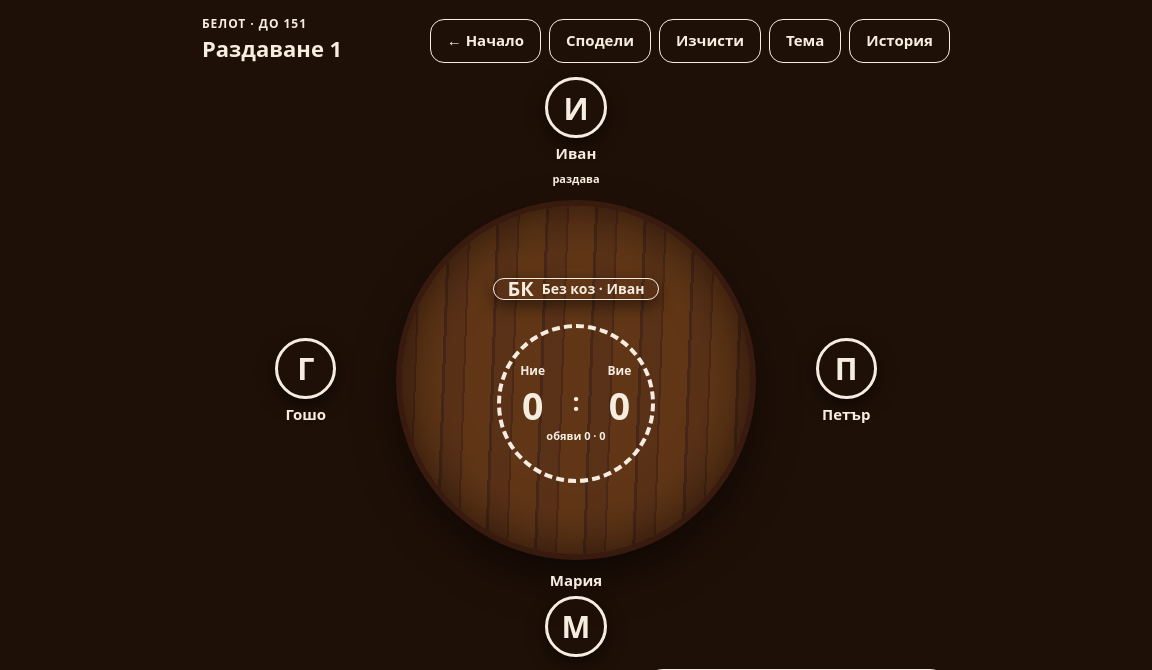
Test case: Declarations popover › opens with a blocking message when the contract is no-trumps
Click the button named "Иван".
click(576, 108)  # box [545,77,607,138]
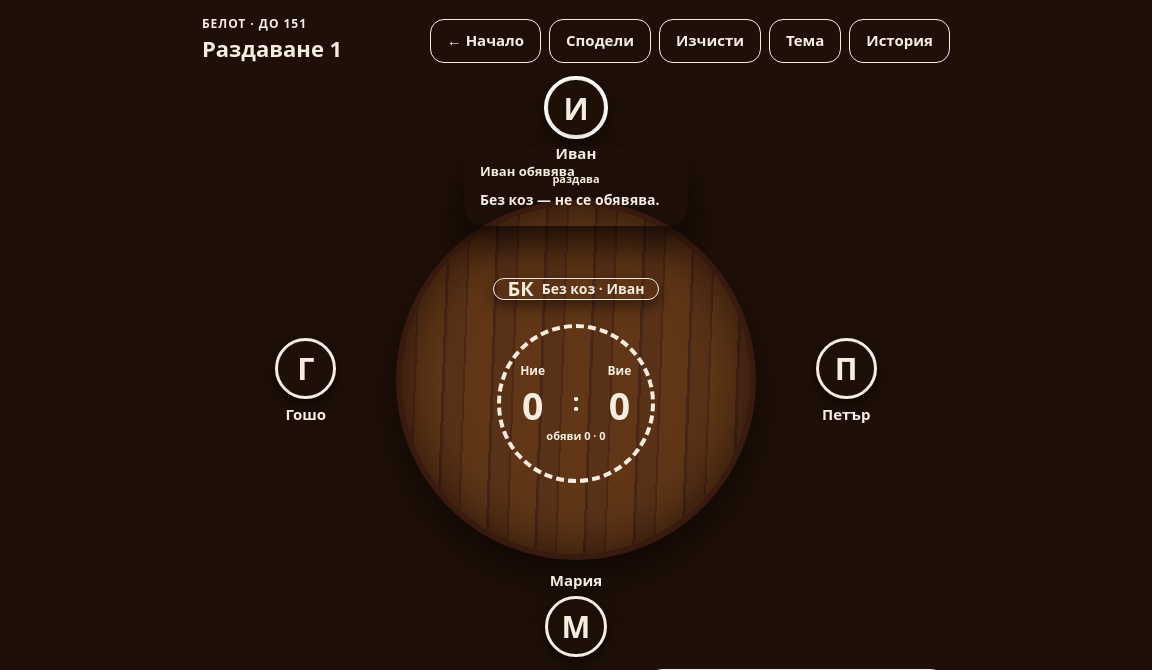
Now the text "Без коз — не се обявява." is shown, box [476,186,676,214]
